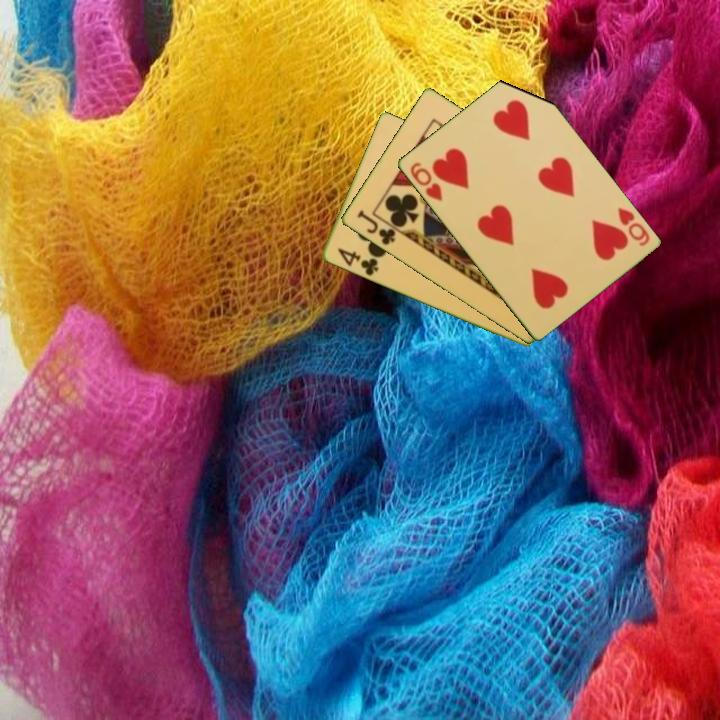4c: (334, 245, 381, 279)
6h: (613, 203, 652, 249), (406, 159, 445, 204)
Jc: (353, 206, 398, 248)
